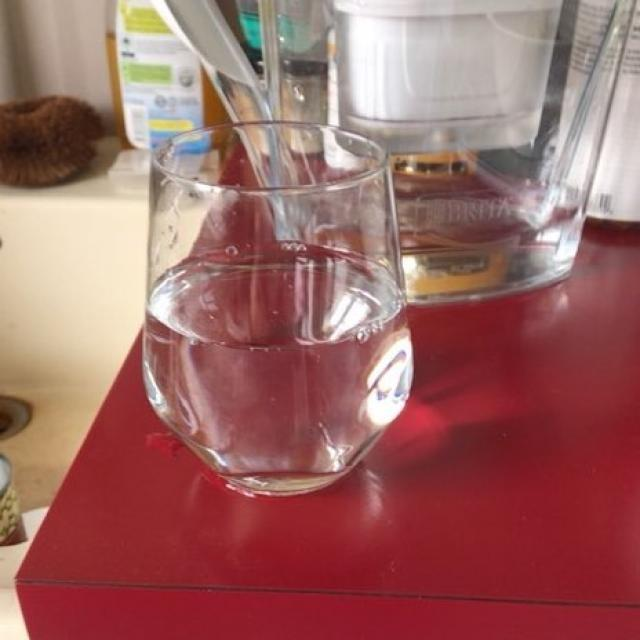water: (143, 263, 414, 477)
